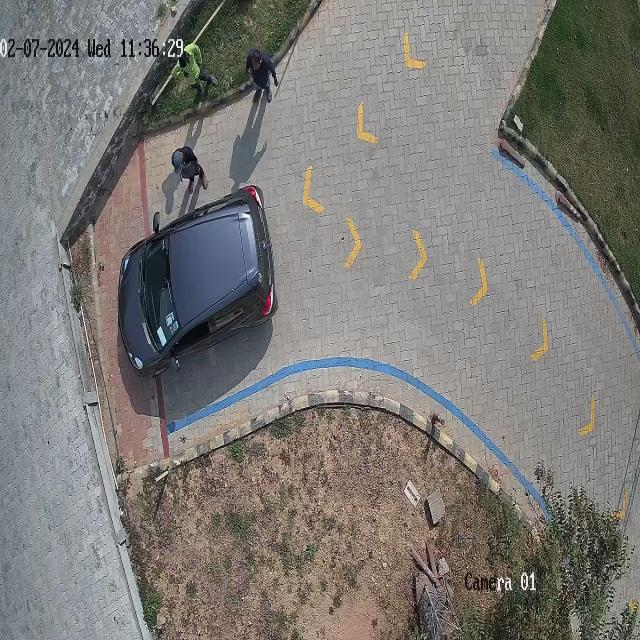car: (118, 184, 278, 376)
